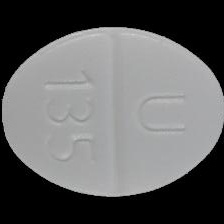29300-135: (0, 0, 224, 224)
